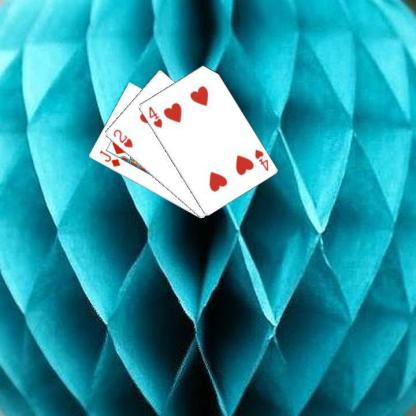2H: (110, 127, 134, 149)
4H: (146, 103, 163, 129), (252, 147, 269, 172)
JD: (96, 148, 122, 168)
